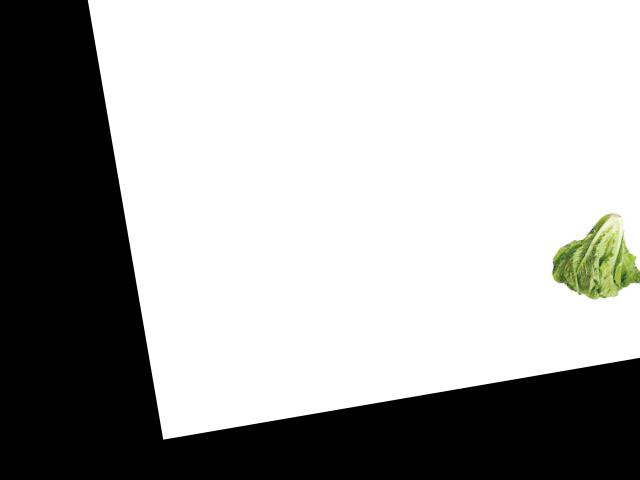lettuce: (541, 204, 640, 310)
